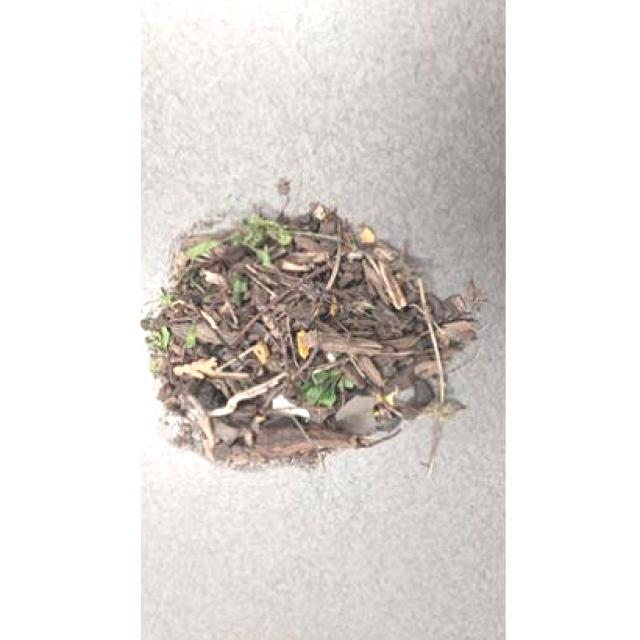dirt: (285, 260, 430, 346)
leaf: (145, 283, 175, 367), (239, 210, 285, 257), (304, 367, 351, 402), (175, 236, 225, 262)
